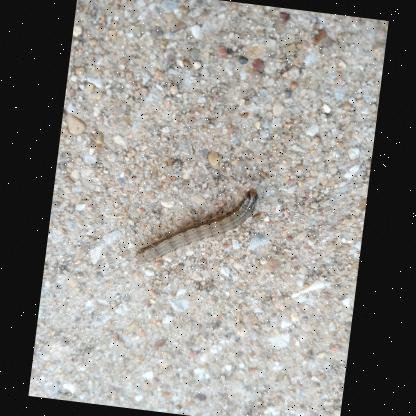Fall Armyworm Larvae: (130, 172, 262, 280)
